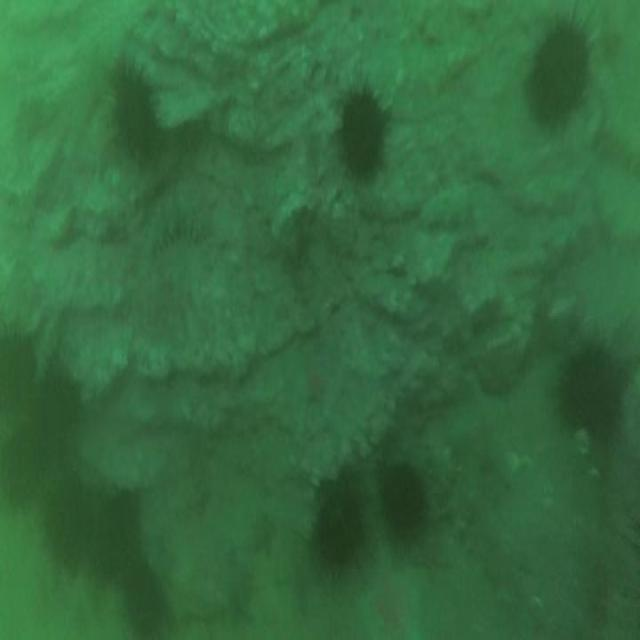echinus: (554, 321, 636, 458), (522, 6, 604, 134), (327, 61, 399, 198), (96, 47, 169, 177), (308, 460, 376, 592), (373, 447, 439, 563), (87, 476, 145, 578), (35, 348, 86, 455), (115, 548, 173, 640), (45, 478, 95, 578), (1, 318, 37, 412)
holothurian: (444, 476, 548, 634), (142, 200, 219, 260)
